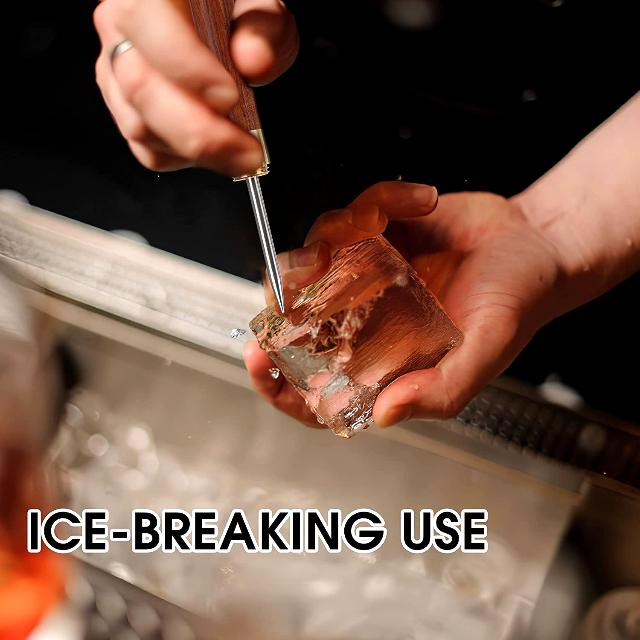ice pick: (184, 1, 286, 316)
